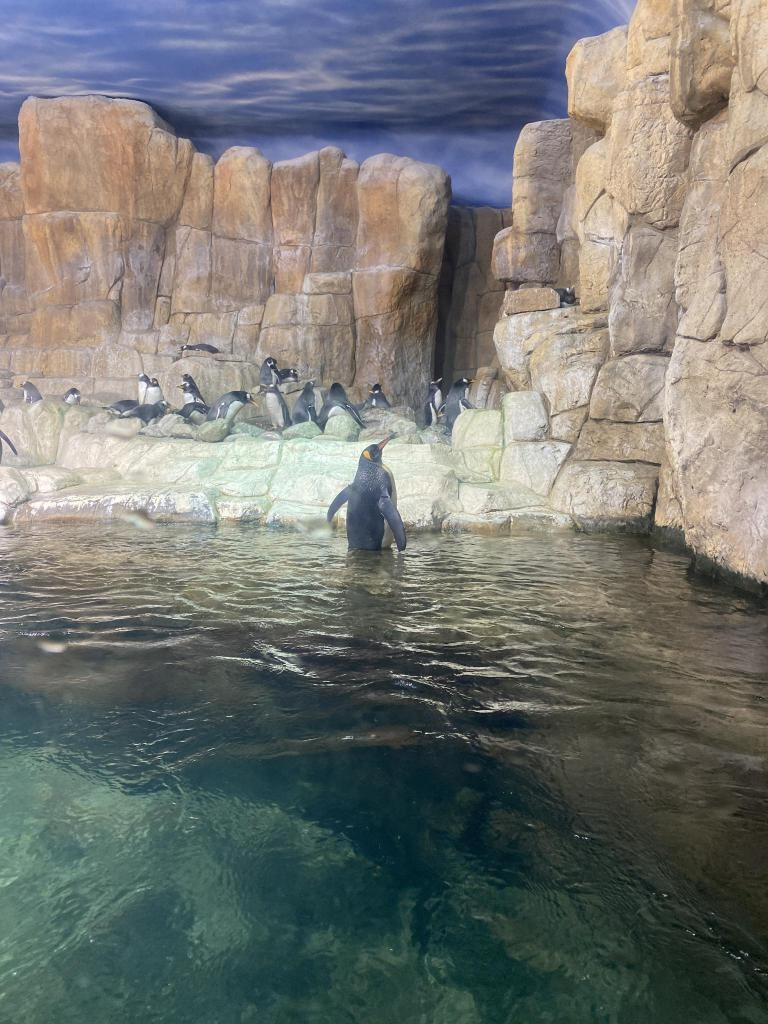penguin: (330, 435, 410, 559), (207, 390, 249, 432), (446, 375, 473, 435), (294, 377, 322, 433), (177, 374, 203, 428), (252, 352, 284, 394), (144, 376, 168, 416), (21, 369, 43, 411), (364, 380, 389, 416), (132, 374, 150, 408), (330, 381, 348, 409), (65, 390, 83, 412)
